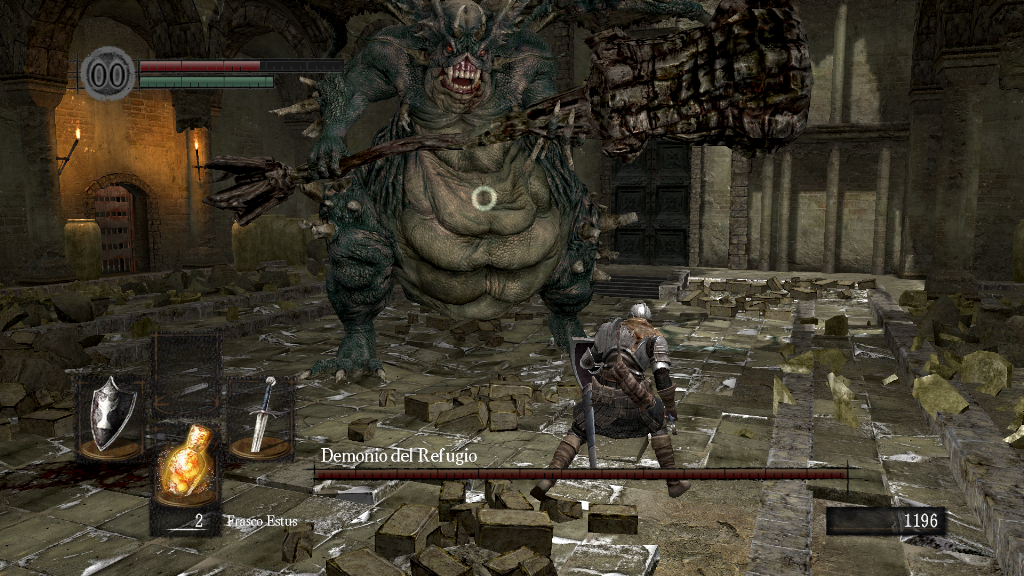asylumDemon: (193, 1, 814, 394)
bossHP: (314, 469, 847, 479)
health: (138, 58, 343, 71)
humanity: (80, 45, 136, 102)
player: (531, 301, 692, 502)
souls: (825, 506, 945, 536)
stamina: (138, 74, 274, 88)
